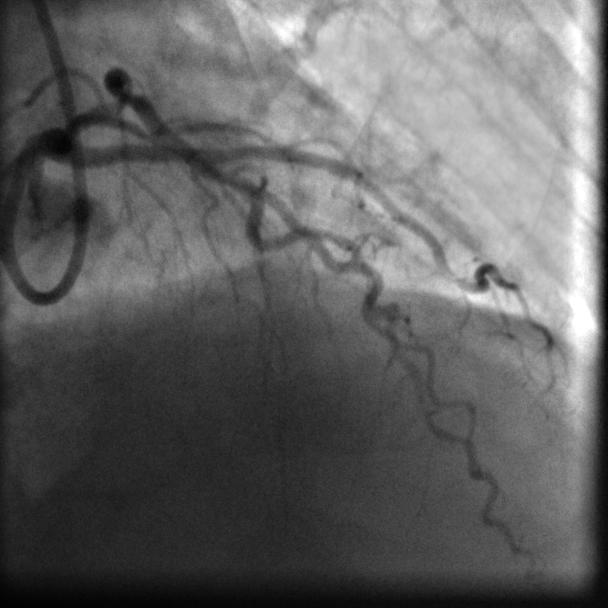Stenosis: (113, 73, 145, 117)
